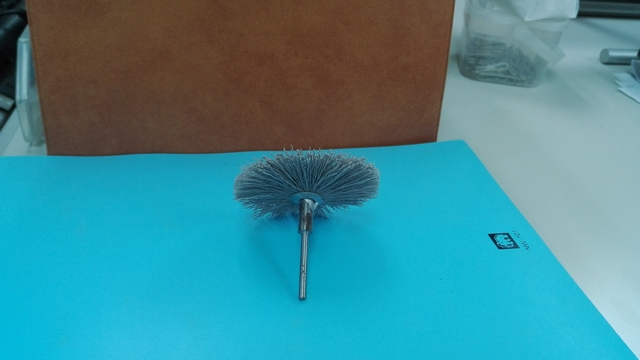TOOL: (177, 131, 388, 326), (223, 135, 389, 270)
